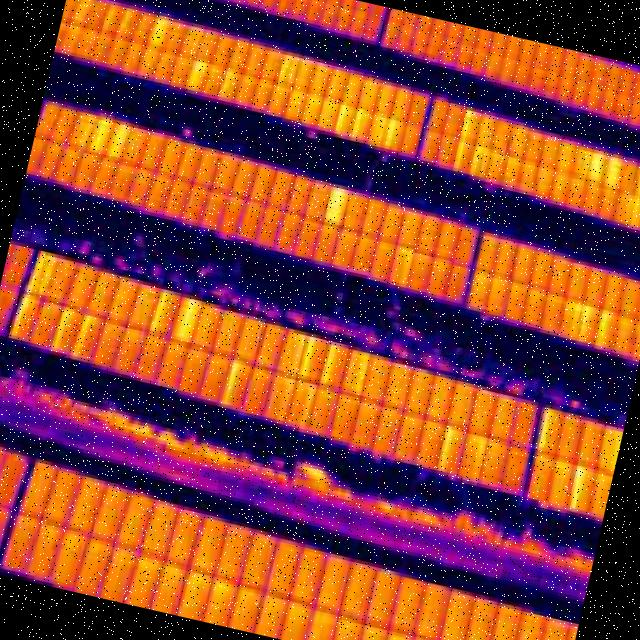Hotspot: (318, 182, 352, 229), (3, 296, 30, 346), (72, 311, 98, 362), (394, 244, 420, 292), (571, 304, 598, 350), (532, 407, 557, 455), (48, 306, 72, 354), (562, 464, 586, 512), (598, 152, 626, 192), (352, 352, 374, 402), (23, 252, 47, 296), (146, 288, 170, 332), (434, 424, 456, 472), (89, 115, 114, 154), (182, 56, 209, 92), (218, 362, 240, 406), (106, 122, 130, 162), (298, 336, 318, 382), (592, 306, 614, 347), (469, 142, 493, 178), (317, 340, 336, 384), (178, 298, 196, 342), (584, 148, 606, 184), (329, 100, 351, 136), (458, 102, 478, 140), (378, 118, 398, 156), (450, 134, 470, 172), (147, 14, 168, 46), (566, 303, 584, 340), (274, 54, 291, 88), (351, 105, 368, 139), (220, 68, 232, 98)
